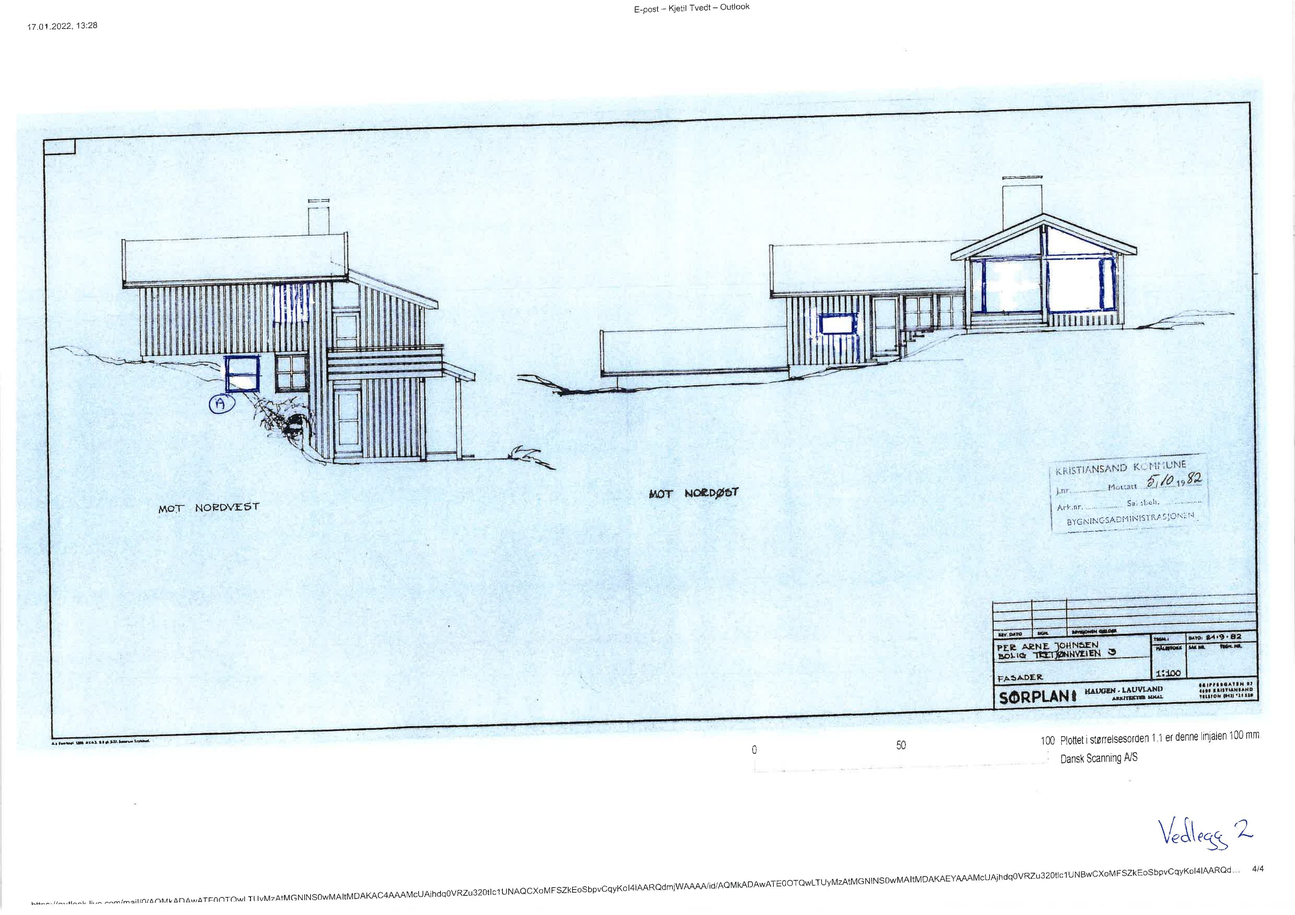fasade: (592, 172, 1141, 388), (117, 193, 501, 463)
